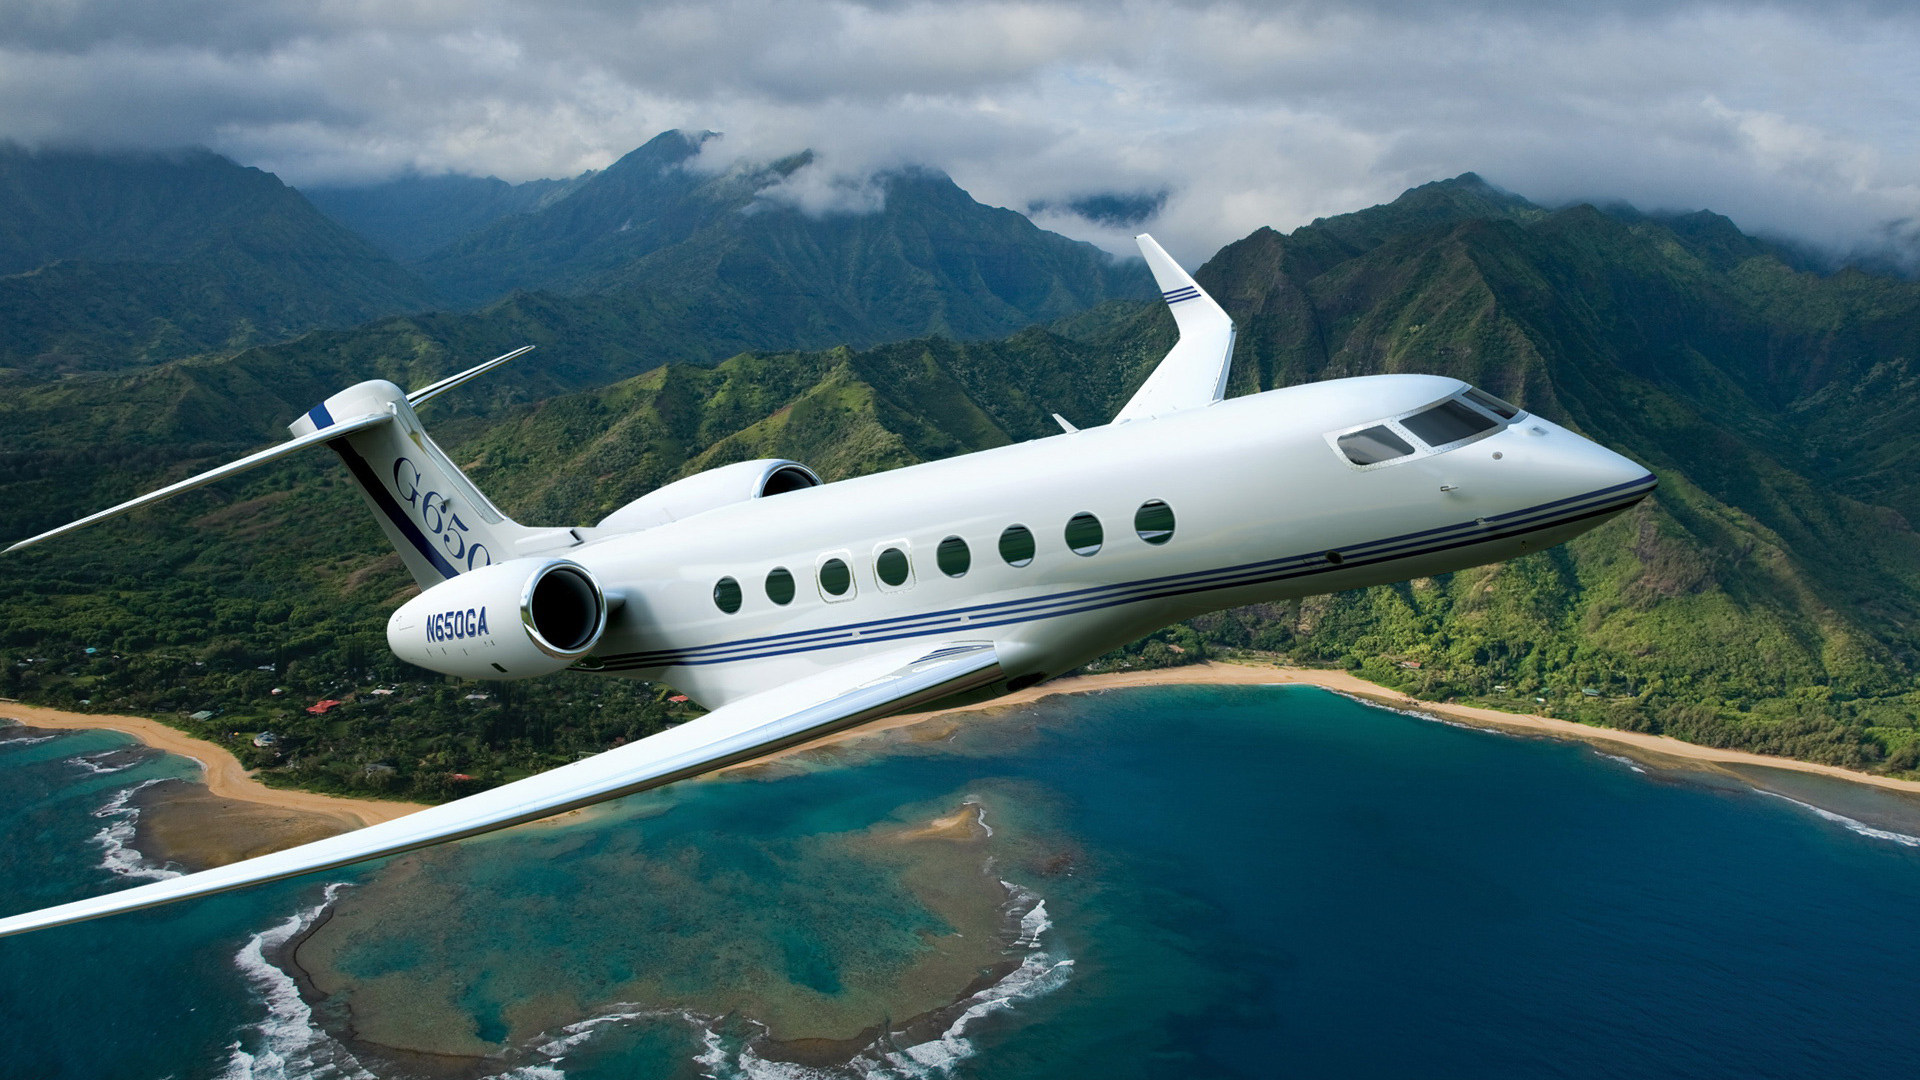aeroplane: (29, 232, 1642, 989)
